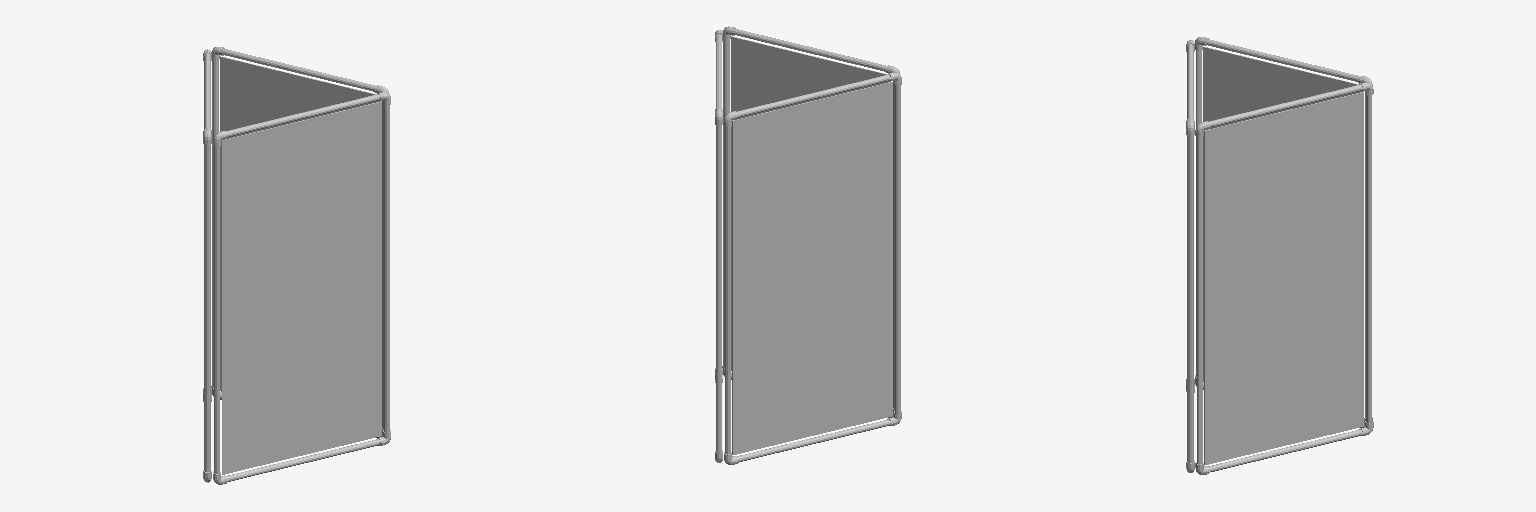
Rendered from 3 Buoy.obj.
3 views of the same model, side by side, from view 1: azimuth 30°, elevation 25°; view 2: azimuth 150°, elevation 25°; view 3: azimuth 270°, elevation 25° (orthographic).
Parts seen in each view (by area): view 1: Solid1:8, Solid1:17, Solid1:19, Solid1:1, Solid1:2, Solid1:10, Solid1:7, Solid1:16, Solid1:6, Solid1:11; view 2: Solid1:26, Solid1:8, Solid1:20, Solid1:10, Solid1:19, Solid1:1, Solid1:25, Solid1:24, Solid1:7, Solid1:2; view 3: Solid1:17, Solid1:26, Solid1:1, Solid1:11, Solid1:10, Solid1:16, Solid1:15, Solid1:25, Solid1:19.
Boxes of the visible parts, box(x1,y1,x2,y2) form: Solid1:8: box(222, 101, 381, 474); Solid1:17: box(220, 56, 379, 391); Solid1:19: box(204, 145, 210, 471); Solid1:1: box(384, 105, 389, 432); Solid1:2: box(214, 147, 219, 473); Solid1:10: box(212, 60, 218, 386); Solid1:7: box(226, 94, 379, 136); Solid1:16: box(222, 49, 375, 91); Solid1:6: box(226, 439, 379, 481); Solid1:11: box(382, 101, 383, 428); Solid1:26: box(732, 82, 892, 454); Solid1:8: box(731, 36, 889, 370); Solid1:20: box(725, 127, 730, 454); Solid1:10: box(716, 125, 721, 452); Solid1:19: box(895, 85, 900, 412); Solid1:1: box(723, 40, 729, 366); Solid1:25: box(737, 74, 890, 117); Solid1:24: box(737, 419, 890, 462); Solid1:7: box(733, 29, 886, 71); Solid1:2: box(893, 81, 894, 408); Solid1:17: box(1204, 92, 1363, 464); Solid1:26: box(1203, 47, 1363, 381); Solid1:1: box(1187, 135, 1193, 462); Solid1:11: box(1197, 137, 1202, 464); Solid1:10: box(1366, 95, 1371, 422); Solid1:16: box(1209, 84, 1362, 127); Solid1:15: box(1208, 429, 1362, 471); Solid1:25: box(1206, 39, 1359, 81); Solid1:19: box(1196, 50, 1201, 376).
Bounding box in the file's own units: 27.84 × 50.59 × 24.35.